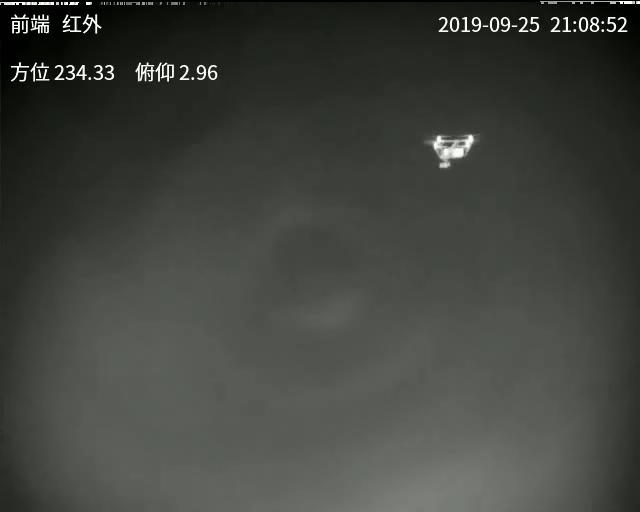uav: (429, 130, 478, 172)
